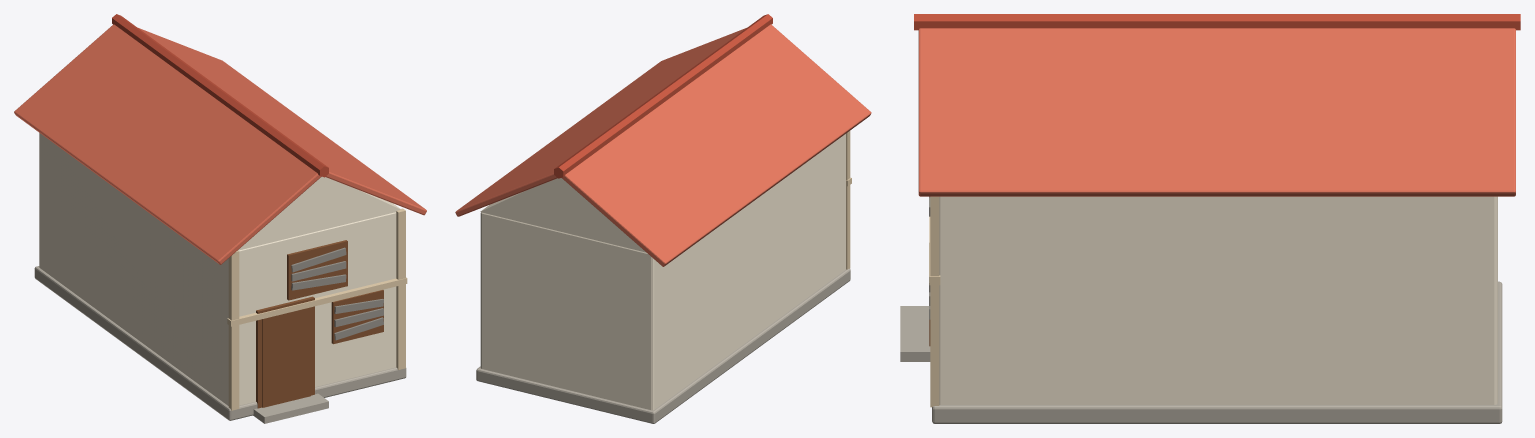
The model's file is nha-ong-xam.glb.
3 renders of one model, left to right at view 1: azimuth 30°, elevation 25°; view 2: azimuth 150°, elevation 25°; view 3: azimuth 270°, elevation 25°, orthographic. The views are drawn at different scales.
Visible parts, largest first — view 1: nha-ong-xam-0, nha-ong-xam-6, nha-ong-xam-7, nha-ong-xam-5, nha-ong-xam-1, nha-ong-xam-10, nha-ong-xam-8, nha-ong-xam-3, nha-ong-xam-16, nha-ong-xam-4, nha-ong-xam-2, nha-ong-xam-12 (+8 smaller); view 2: nha-ong-xam-0, nha-ong-xam-6, nha-ong-xam-7, nha-ong-xam-1, nha-ong-xam-5, nha-ong-xam-8, nha-ong-xam-3; view 3: nha-ong-xam-0, nha-ong-xam-7, nha-ong-xam-1, nha-ong-xam-8, nha-ong-xam-4, nha-ong-xam-11.
Boxes of the visible parts, bbox=[...] form: nha-ong-xam-0: bbox=[39, 133, 396, 405]; nha-ong-xam-6: bbox=[14, 24, 321, 264]; nha-ong-xam-7: bbox=[138, 28, 426, 215]; nha-ong-xam-5: bbox=[238, 176, 400, 250]; nha-ong-xam-1: bbox=[34, 266, 406, 420]; nha-ong-xam-10: bbox=[262, 307, 310, 407]; nha-ong-xam-8: bbox=[112, 14, 328, 177]; nha-ong-xam-3: bbox=[228, 250, 239, 410]; nha-ong-xam-16: bbox=[287, 240, 347, 300]; nha-ong-xam-4: bbox=[396, 208, 405, 369]; nha-ong-xam-2: bbox=[227, 277, 407, 326]; nha-ong-xam-12: bbox=[331, 290, 383, 344]; nha-ong-xam-0: bbox=[480, 134, 845, 410]; nha-ong-xam-6: bbox=[561, 24, 871, 266]; nha-ong-xam-7: bbox=[455, 28, 746, 216]; nha-ong-xam-1: bbox=[476, 268, 850, 423]; nha-ong-xam-5: bbox=[480, 178, 645, 252]; nha-ong-xam-8: bbox=[554, 14, 772, 178]; nha-ong-xam-3: bbox=[846, 131, 850, 269]; nha-ong-xam-0: bbox=[939, 196, 1497, 404]; nha-ong-xam-7: bbox=[918, 28, 1515, 196]; nha-ong-xam-1: bbox=[932, 281, 1502, 423]; nha-ong-xam-8: bbox=[914, 14, 1520, 30]; nha-ong-xam-4: bbox=[930, 196, 939, 407]; nha-ong-xam-11: bbox=[900, 306, 930, 361].
Size of the model in its own units: 3.89 by 4.24 by 6.85.
